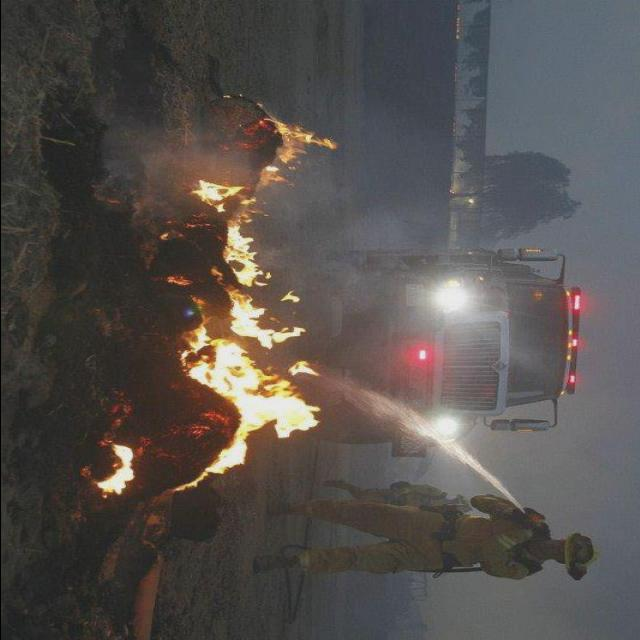Fire: (161, 178, 325, 508), (254, 113, 344, 188), (92, 444, 142, 497)
